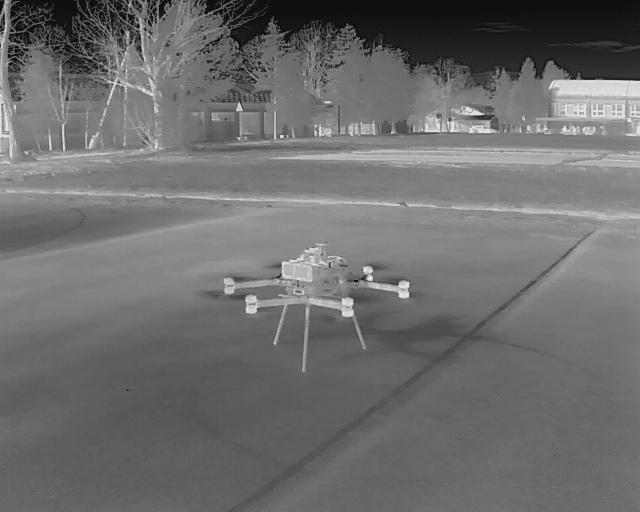drone: (194, 232, 419, 368)
